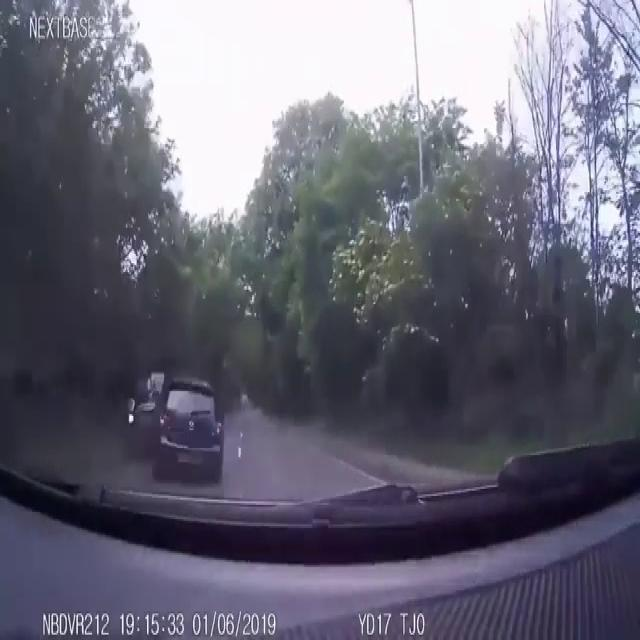moderate: (122, 358, 227, 488)
